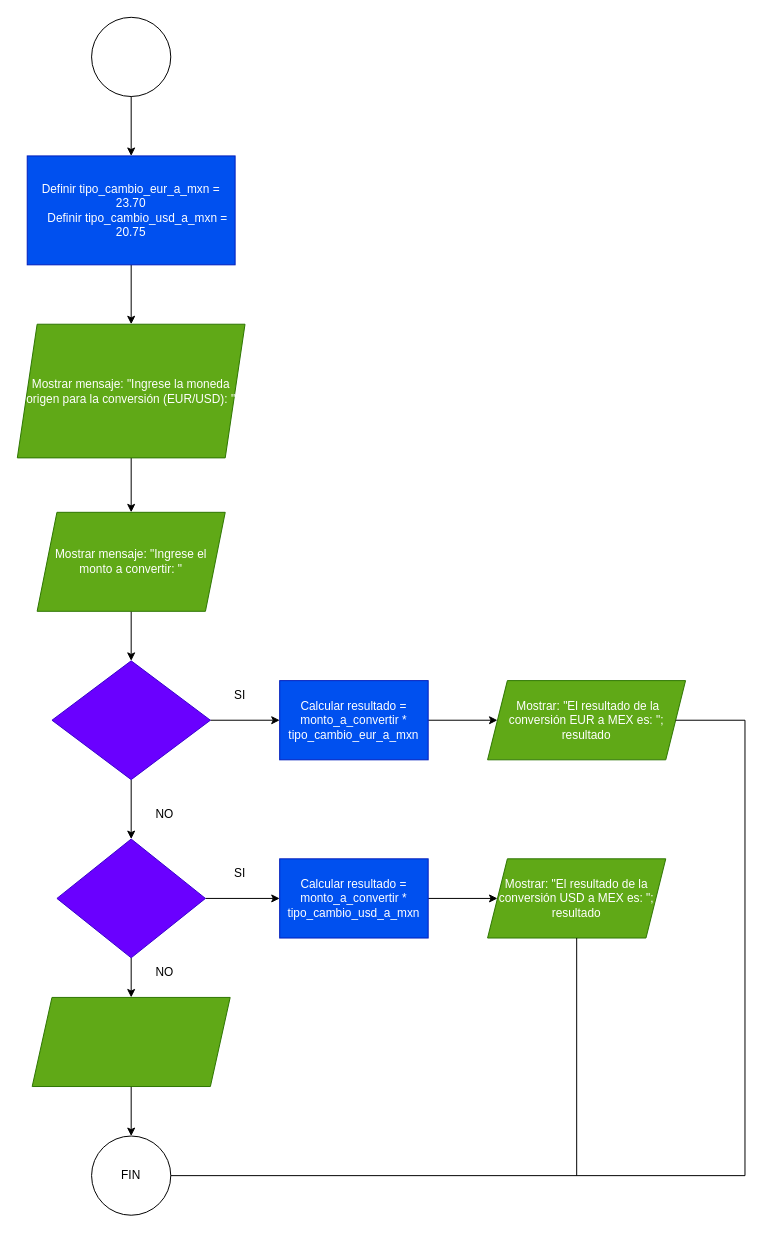
Image size: 763x1233. Some labels were removed from this diagram. The shapes that lost their labels are listed below. From the top down, each one's box as (x1, y1, x2, y2) in pixels, then its label:
(91, 16, 171, 97): Inicio
(51, 660, 210, 780): Tipo_conversión es EUR
(56, 838, 205, 958): Tipo_conversión es USD
(31, 996, 230, 1087): Mostrar: "No está disponible este tipo de conversión actualmente"
